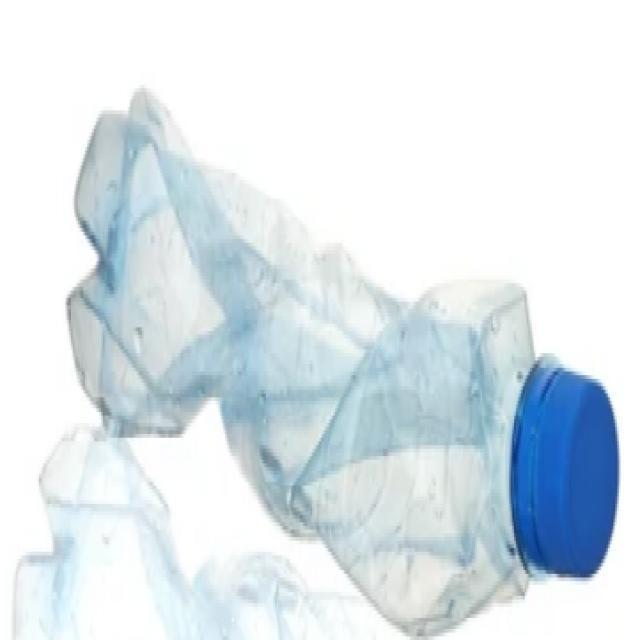Botella de plastico: (16, 91, 619, 640)
